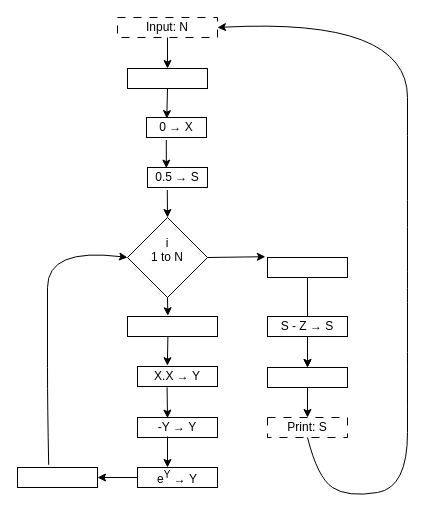
The diagram is 425 pixels wide and 512 high, and some of its shapes have lost their labels. Each missing label, with the box of its shape:
1/N → D: (126, 68, 208, 88)
S + Y → S: (16, 466, 98, 488)
S.D → S: (266, 366, 348, 388)
X + C → X: (126, 316, 218, 336)
Y/2 → Z: (266, 256, 348, 278)
